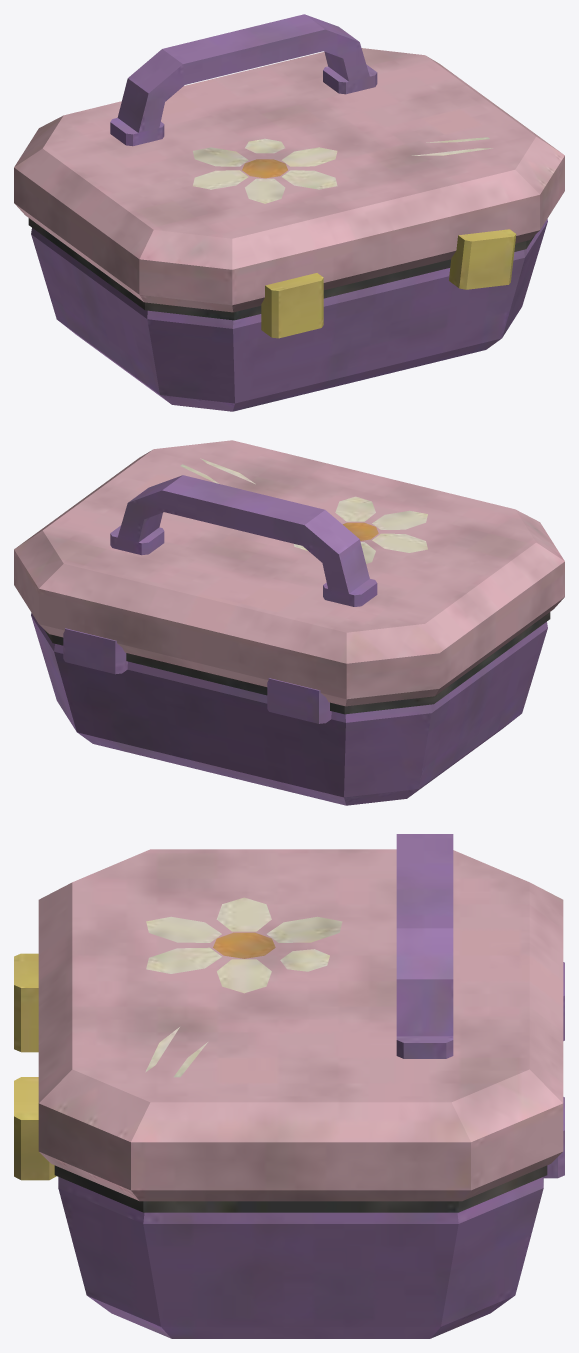
File: SE10_kids_lunch_boxes_v2.glb
3 renders of one model, top to bottom at view 1: azimuth 30°, elevation 25°; view 2: azimuth 150°, elevation 25°; view 3: azimuth 270°, elevation 25°, orthographic. The views are drawn at different scales.
Parts seen in each view (by area): view 1: Flower lunch box; view 2: Flower lunch box; view 3: Flower lunch box.
Boxes of the visible parts, x1,y1,x2,y2 form: Flower lunch box: (14,14,564,411); Flower lunch box: (14,440,564,805); Flower lunch box: (14,834,564,1338).
Size of the model in its own units: 0.2 by 0.1154 by 0.1654.
Materials: 6 (6 with a texture image).
